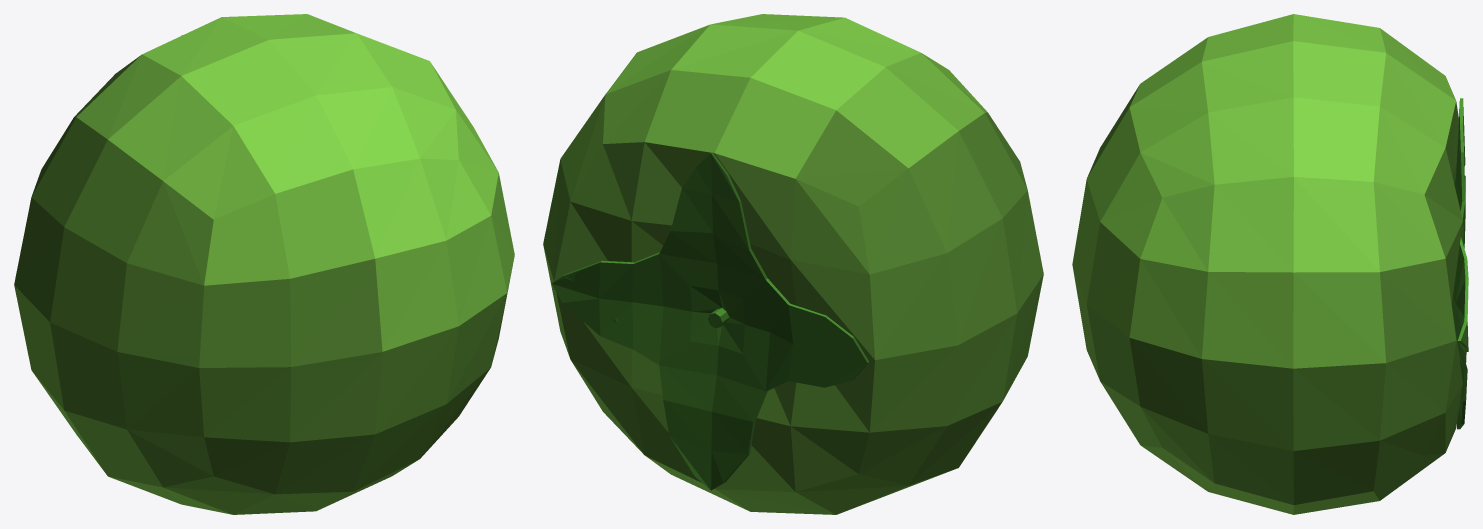
The model's file is Guava.glb.
3 views of the same model, side by side, from view 1: azimuth 30°, elevation 25°; view 2: azimuth 150°, elevation 25°; view 3: azimuth 270°, elevation 25° (orthographic). The views are drawn at different scales.
Visible parts, largest first — view 1: Guava_Whole; view 2: Guava_Whole; view 3: Guava_Whole.
Boxes of the visible parts, x1,y1,x2,y2 form: Guava_Whole: (14, 14, 514, 514); Guava_Whole: (543, 14, 1043, 514); Guava_Whole: (1072, 14, 1468, 514).
Bounding box in the file's own units: 0.275 × 0.275 × 0.221.
